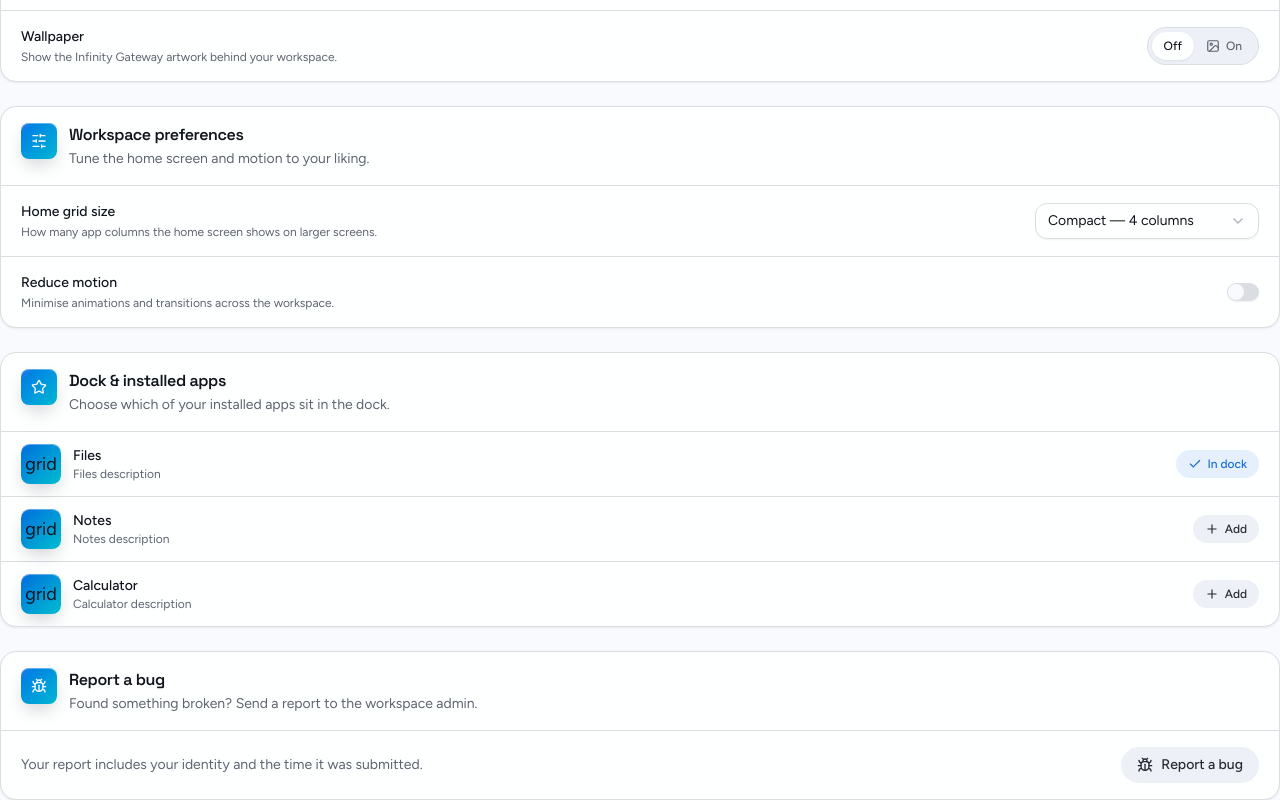
Test case: Bug report flow › submits a report from Settings and shows it in the admin inbox
(page scrolled)
Click the button with test id "report_bug.open_button" at (1190, 765), box [1121,747,1259,783]
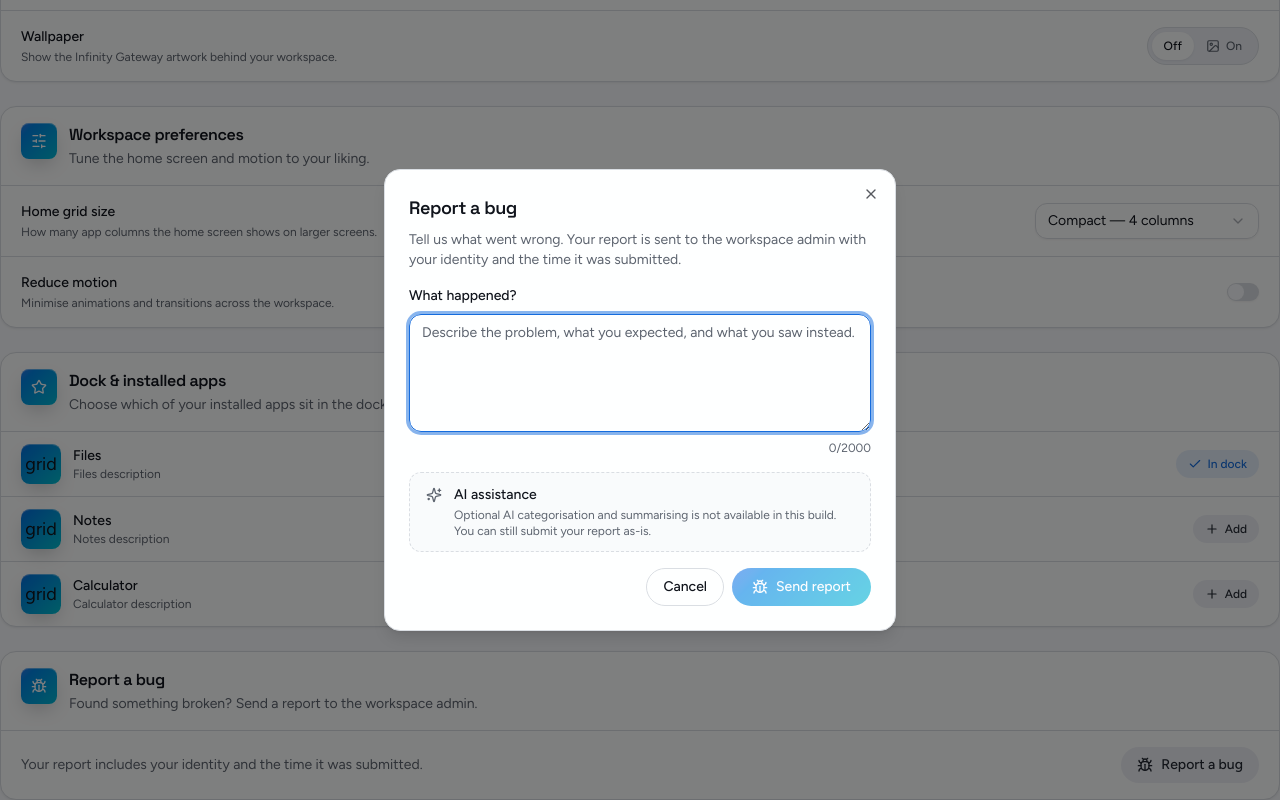
Type "The dock disappeared" into the text box with test id "report_bug.textarea" at (640, 373), box [409,314,871,432]
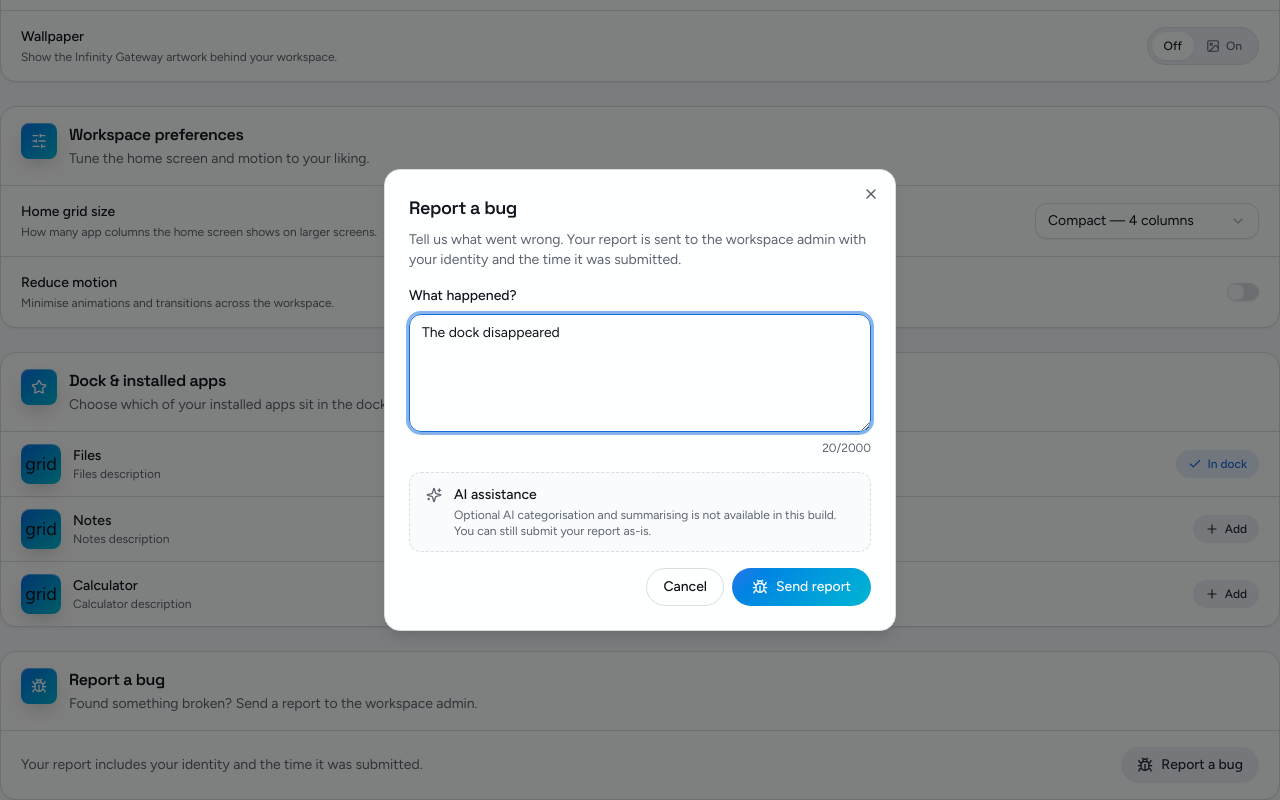
Click the button with test id "report_bug.submit_button" at (802, 587), box [732,568,871,606]
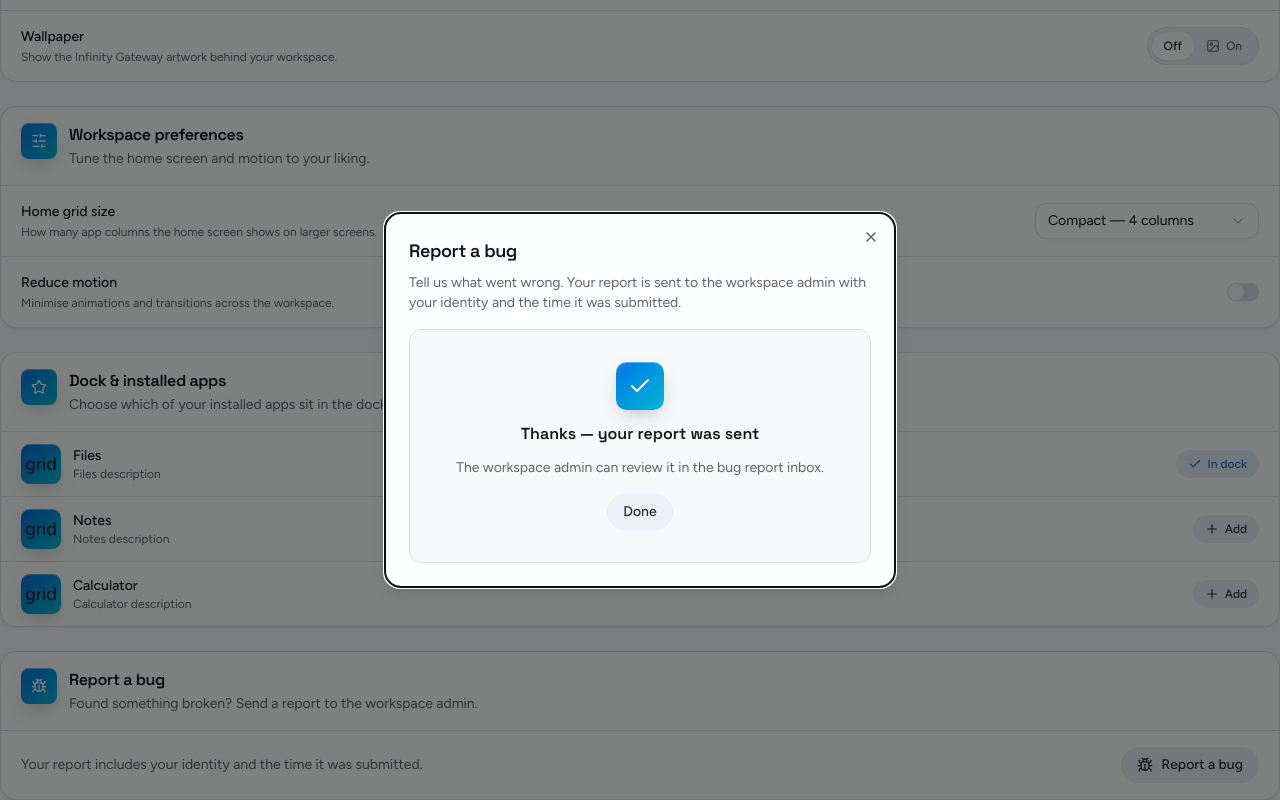
Expected: the element with test id "report_bug.success_state" is shown, [409,329,871,563]
